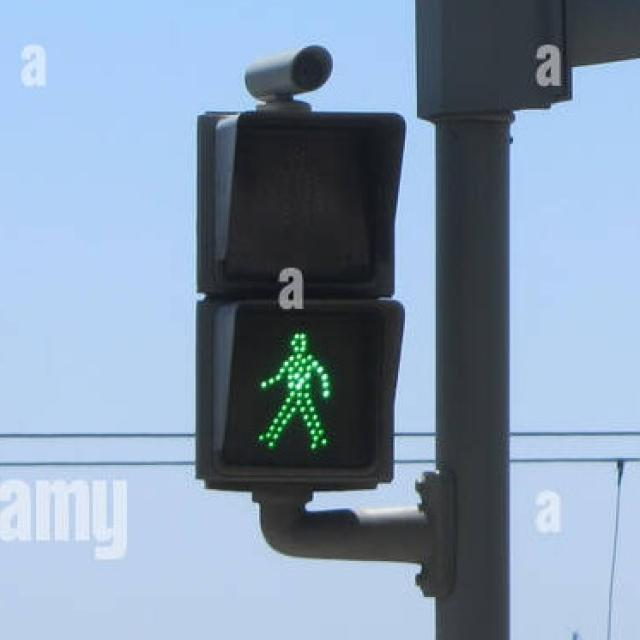geen-crossing: (250, 318, 338, 462)
